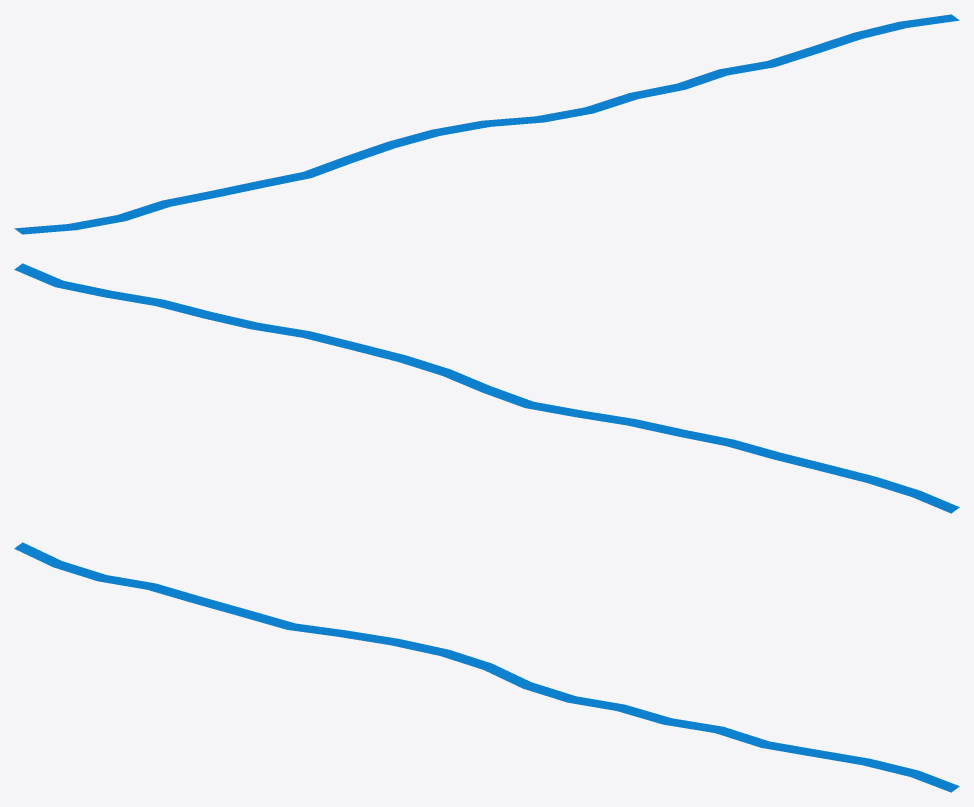
Rendered from River.fbx.
The picture shows the model from 3 angles, top to bottom: view 1: azimuth 30°, elevation 25°; view 2: azimuth 150°, elevation 25°; view 3: azimuth 330°, elevation 25°; orthographic projection. The views are drawn at different scales.
Visible parts, largest first — view 1: River3; view 2: River3; view 3: River3.
Boxes of the visible parts, <box> form: River3: <box>14,14,959,234</box>; River3: <box>14,263,959,513</box>; River3: <box>14,542,959,792</box>.
Bounding box in the file's own units: 171383 × 526 × 8396.
